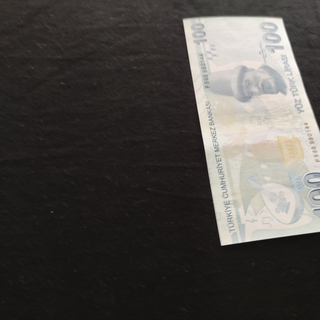100TLBack: (180, 16, 320, 246)
